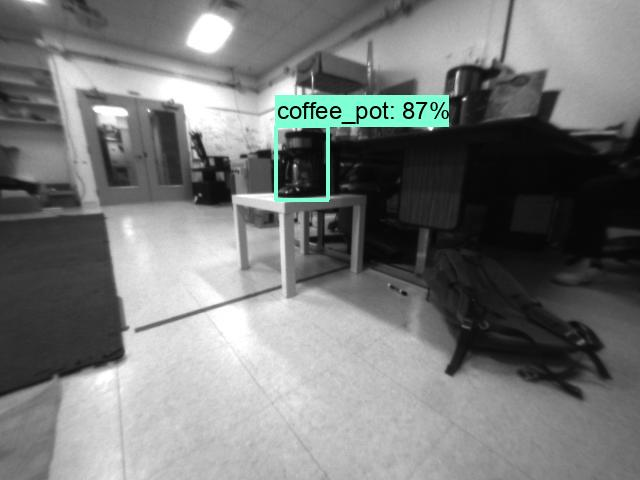coffee_pot: (280, 128, 333, 198)
